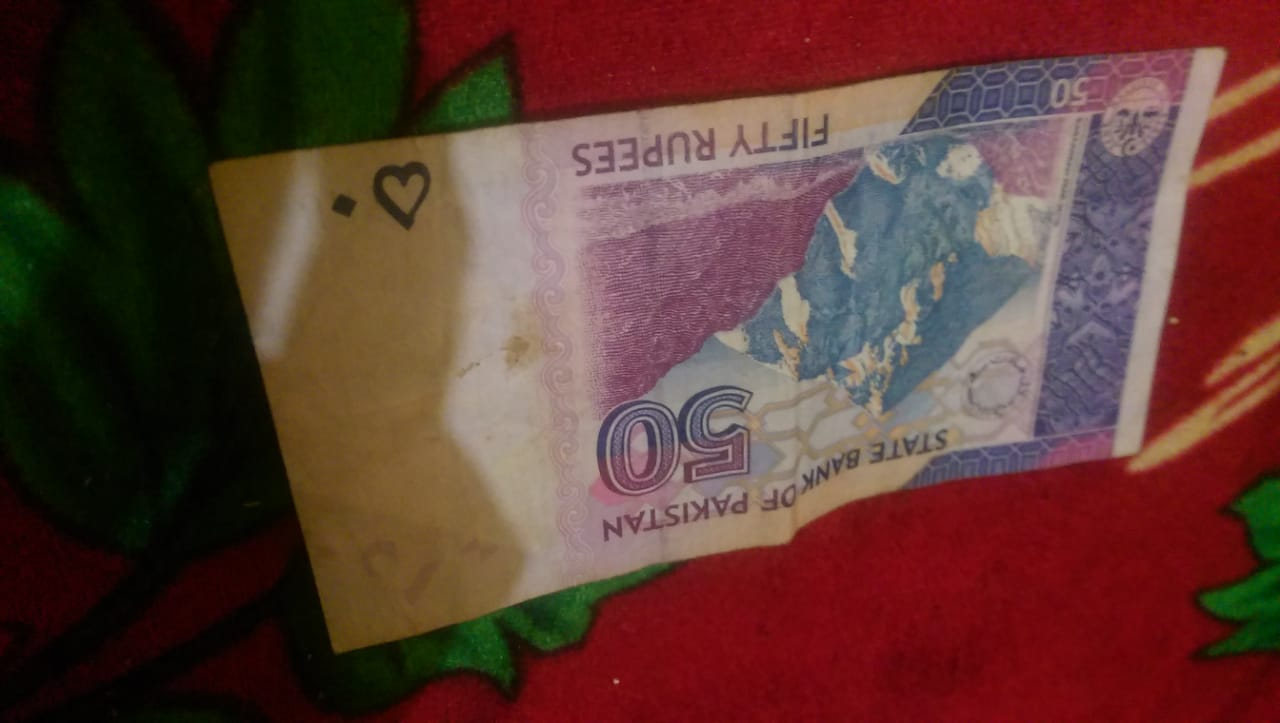50 rupee: (225, 73, 1223, 671)
